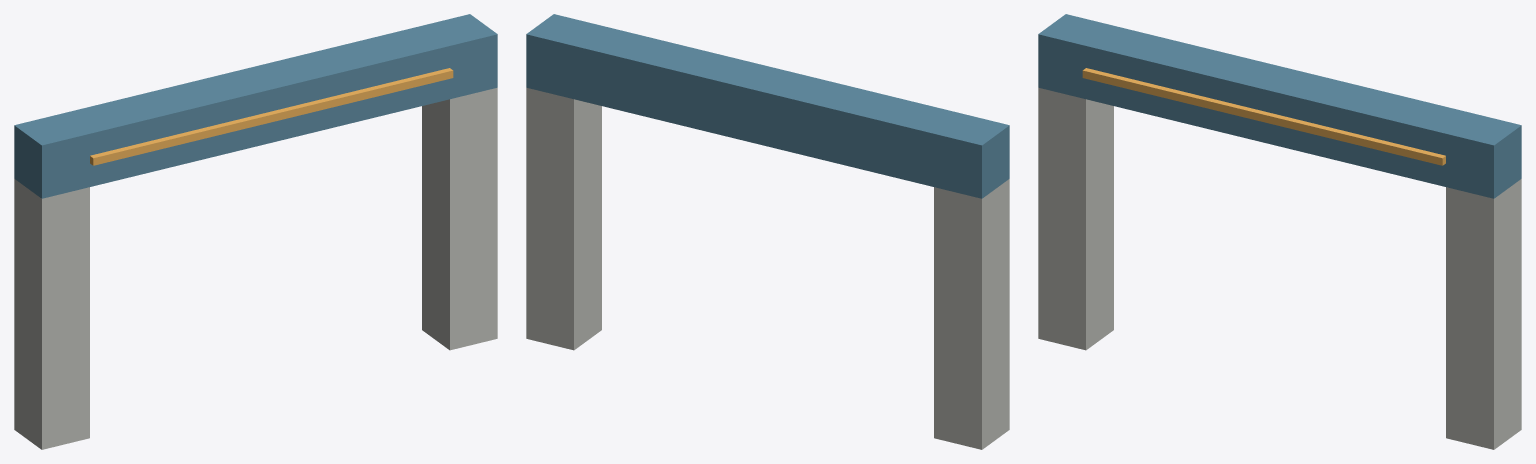
Rendered from stadGate.glb.
3 views of the same model, side by side, from view 1: azimuth 30°, elevation 25°; view 2: azimuth 150°, elevation 25°; view 3: azimuth 330°, elevation 25° (orthographic).
Visible parts, largest first — view 1: stadium-entry-arch; view 2: stadium-entry-arch; view 3: stadium-entry-arch.
Part boxes in pixels (x1,y1,x2,y2): stadium-entry-arch: (14,14,497,449); stadium-entry-arch: (526,14,1009,449); stadium-entry-arch: (1038,14,1521,449).
Bounding box in the file's own units: 7.6 × 4.85 × 0.9.
